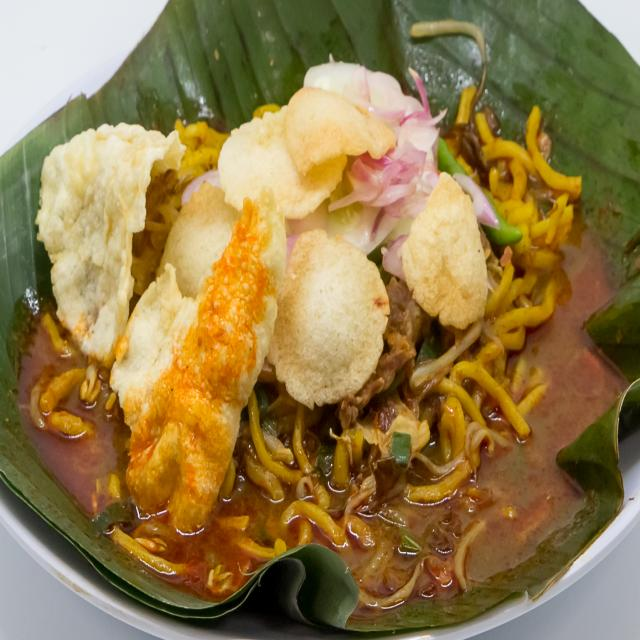Mie-Aceh: (26, 46, 588, 607)
